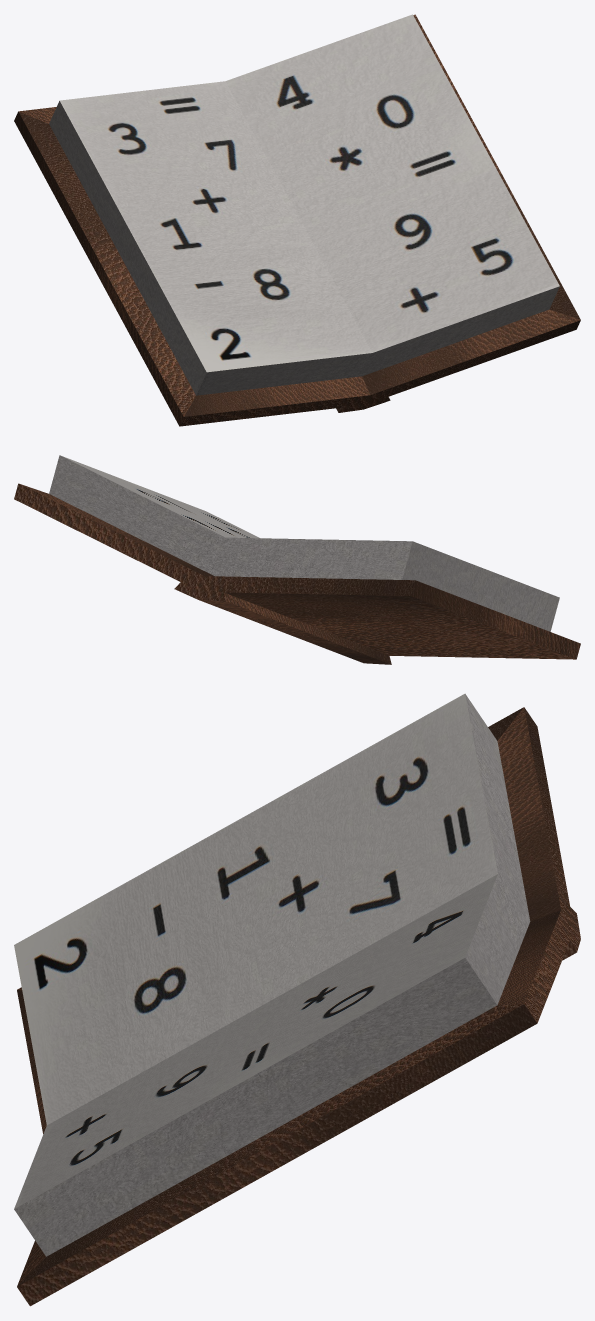
Rendered from book2023.glb.
3 renders of one model, top to bottom at view 1: azimuth 30°, elevation 25°; view 2: azimuth 150°, elevation 25°; view 3: azimuth 270°, elevation 25°, orthographic. The views are drawn at different scales.
Parts seen in each view (by area): view 1: Plane; view 2: Plane; view 3: Plane.
Boxes of the visible parts, left/top/right/bottom form: Plane: left=14, top=14, right=580, bottom=426; Plane: left=14, top=455, right=580, bottom=664; Plane: left=14, top=693, right=580, bottom=1306.
Bounding box in the file's own units: 0.9595 × 0.597 × 0.7738.
Materials: 1 (1 with a texture image).
